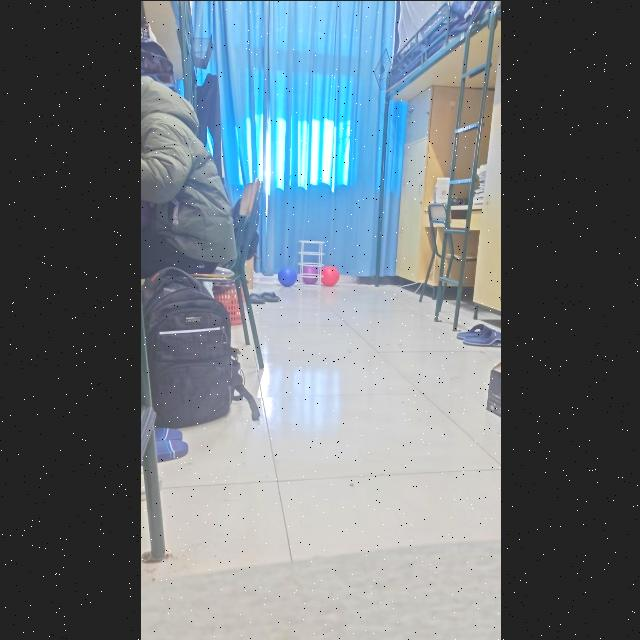B: (276, 260, 298, 286)
P: (298, 264, 316, 282)
R: (318, 262, 339, 280)
S: (298, 235, 328, 283)
